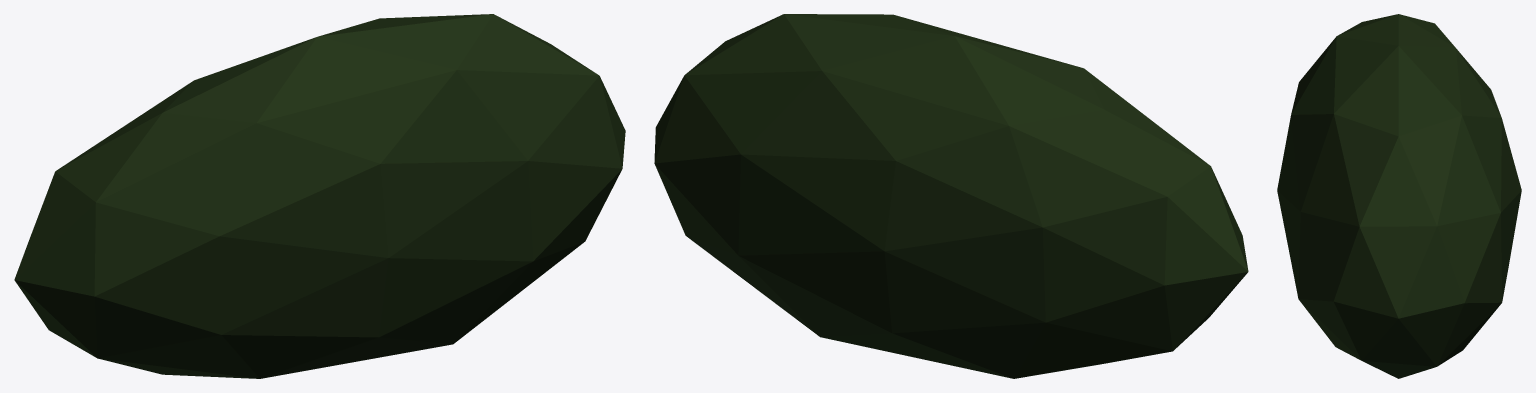
The model's file is 1930-Street-trees-and-bushes-hedge.glb.
3 renders of one model, left to right at view 1: azimuth 30°, elevation 25°; view 2: azimuth 150°, elevation 25°; view 3: azimuth 270°, elevation 25°, orthographic. The views are drawn at different scales.
Visible parts, largest first — view 1: Street trees and bushes/hedge; view 2: Street trees and bushes/hedge; view 3: Street trees and bushes/hedge.
Boxes of the visible parts, <box> form: Street trees and bushes/hedge: <box>14,14,625,378</box>; Street trees and bushes/hedge: <box>654,14,1248,378</box>; Street trees and bushes/hedge: <box>1277,14,1521,378</box>.
Bounding box in the file's own units: 1.04 × 0.5365 × 0.4233.
